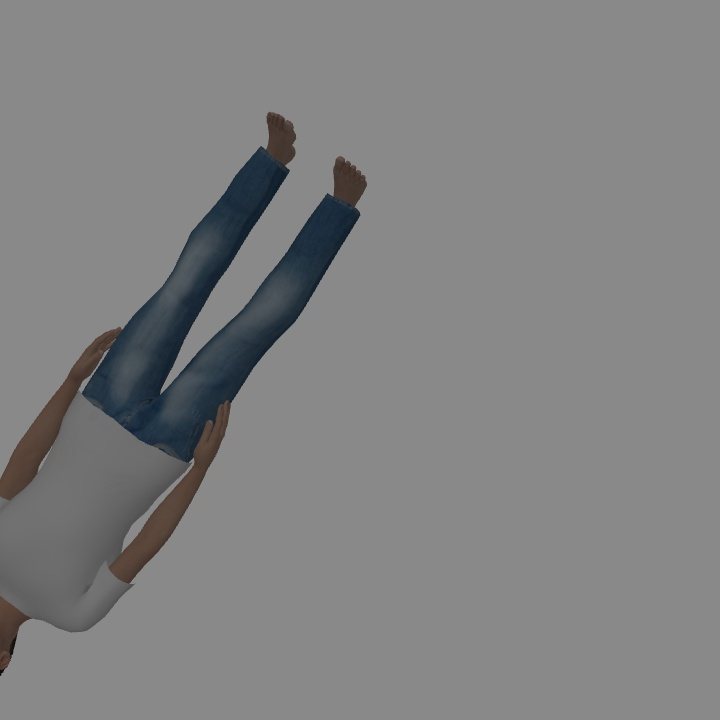victim: (1, 111, 361, 676)
